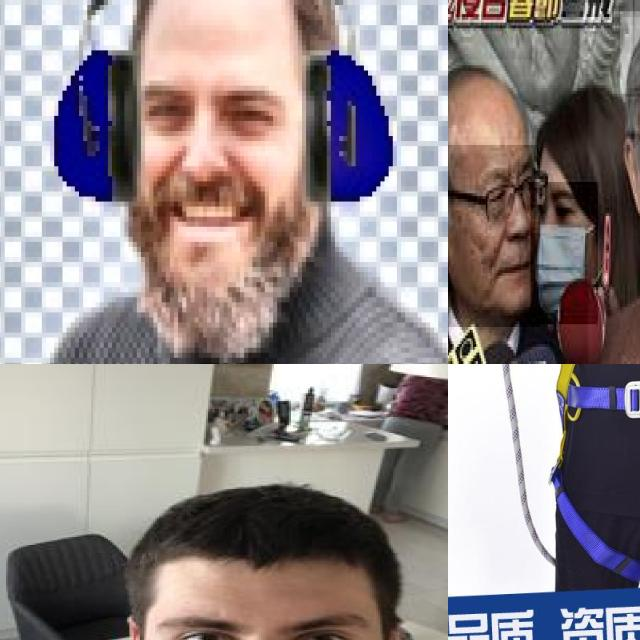Ear-protection: (36, 0, 413, 210)
Harness: (551, 364, 640, 571)
No_Ear-Protection: (618, 131, 640, 221), (97, 613, 162, 640)
No_Glasses: (143, 596, 393, 640)
face_mask: (530, 182, 600, 327)
face_nomask: (448, 145, 535, 327), (146, 586, 380, 640)
glasses: (482, 168, 539, 225)
head_nohelmet: (127, 510, 402, 590), (448, 59, 533, 156), (534, 102, 623, 176)
person: (0, 489, 448, 640), (448, 42, 543, 364), (588, 17, 640, 364)
